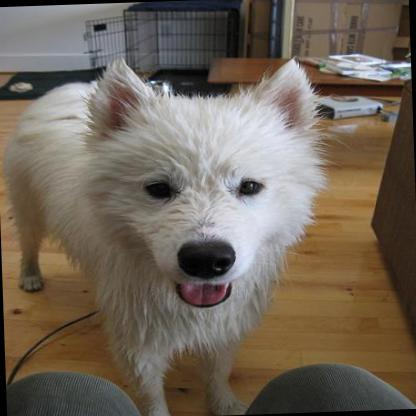Samoyed: (0, 50, 328, 416)
